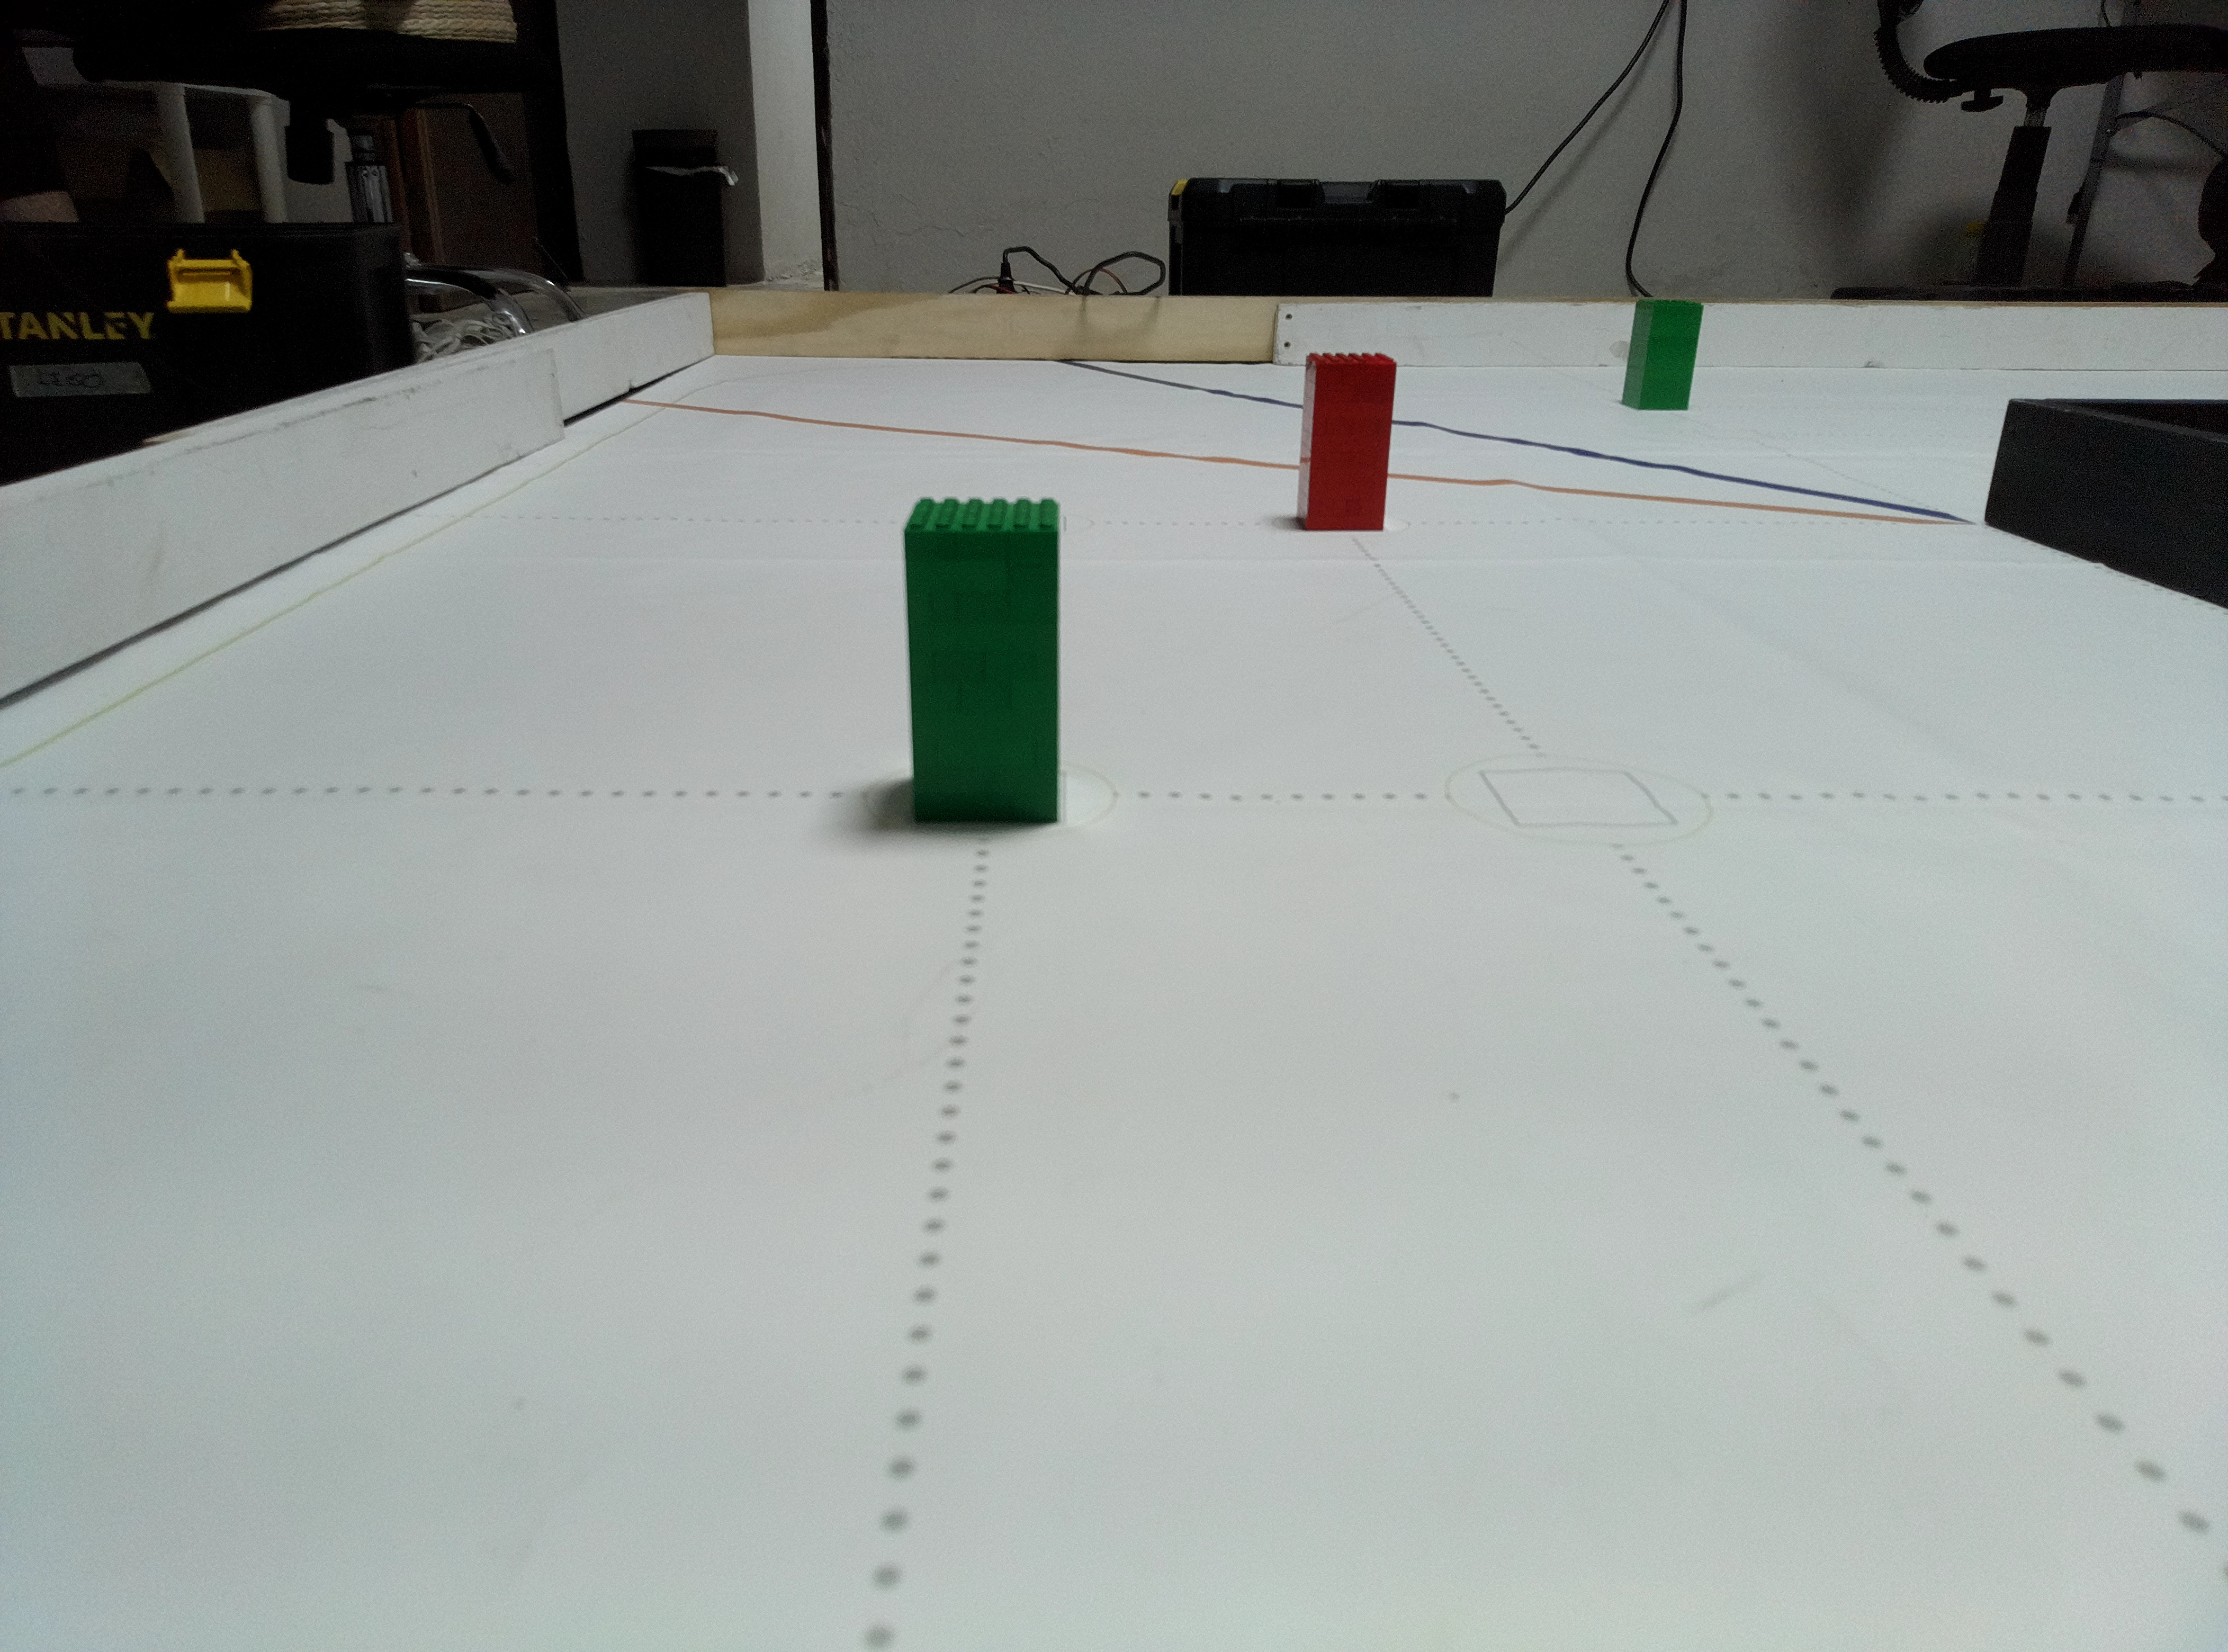greenbox: (902, 493, 1062, 828), (1619, 297, 1706, 411)
redbox: (1296, 352, 1399, 533)
